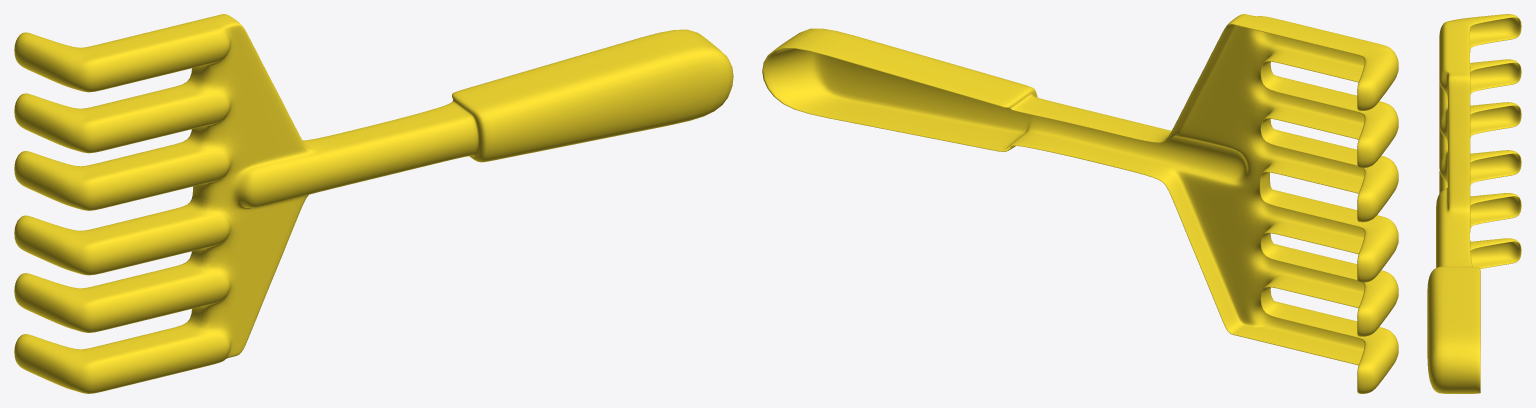
Rendered from 13511_Toy_Hand_Rake_v1_L3.obj.
The picture shows the model from 3 angles, left to right: view 1: azimuth 30°, elevation 25°; view 2: azimuth 150°, elevation 25°; view 3: azimuth 270°, elevation 25°; orthographic projection. The views are drawn at different scales.
Visible parts, largest first — view 1: Toy_Hand_Rake; view 2: Toy_Hand_Rake; view 3: Toy_Hand_Rake.
Part boxes in pixels (left/top/right/bottom): Toy_Hand_Rake: left=14, top=14, right=733, bottom=393; Toy_Hand_Rake: left=762, top=14, right=1398, bottom=393; Toy_Hand_Rake: left=1427, top=14, right=1521, bottom=393.
Size of the model in its own units: 5.82 by 2.75 by 0.9464.
